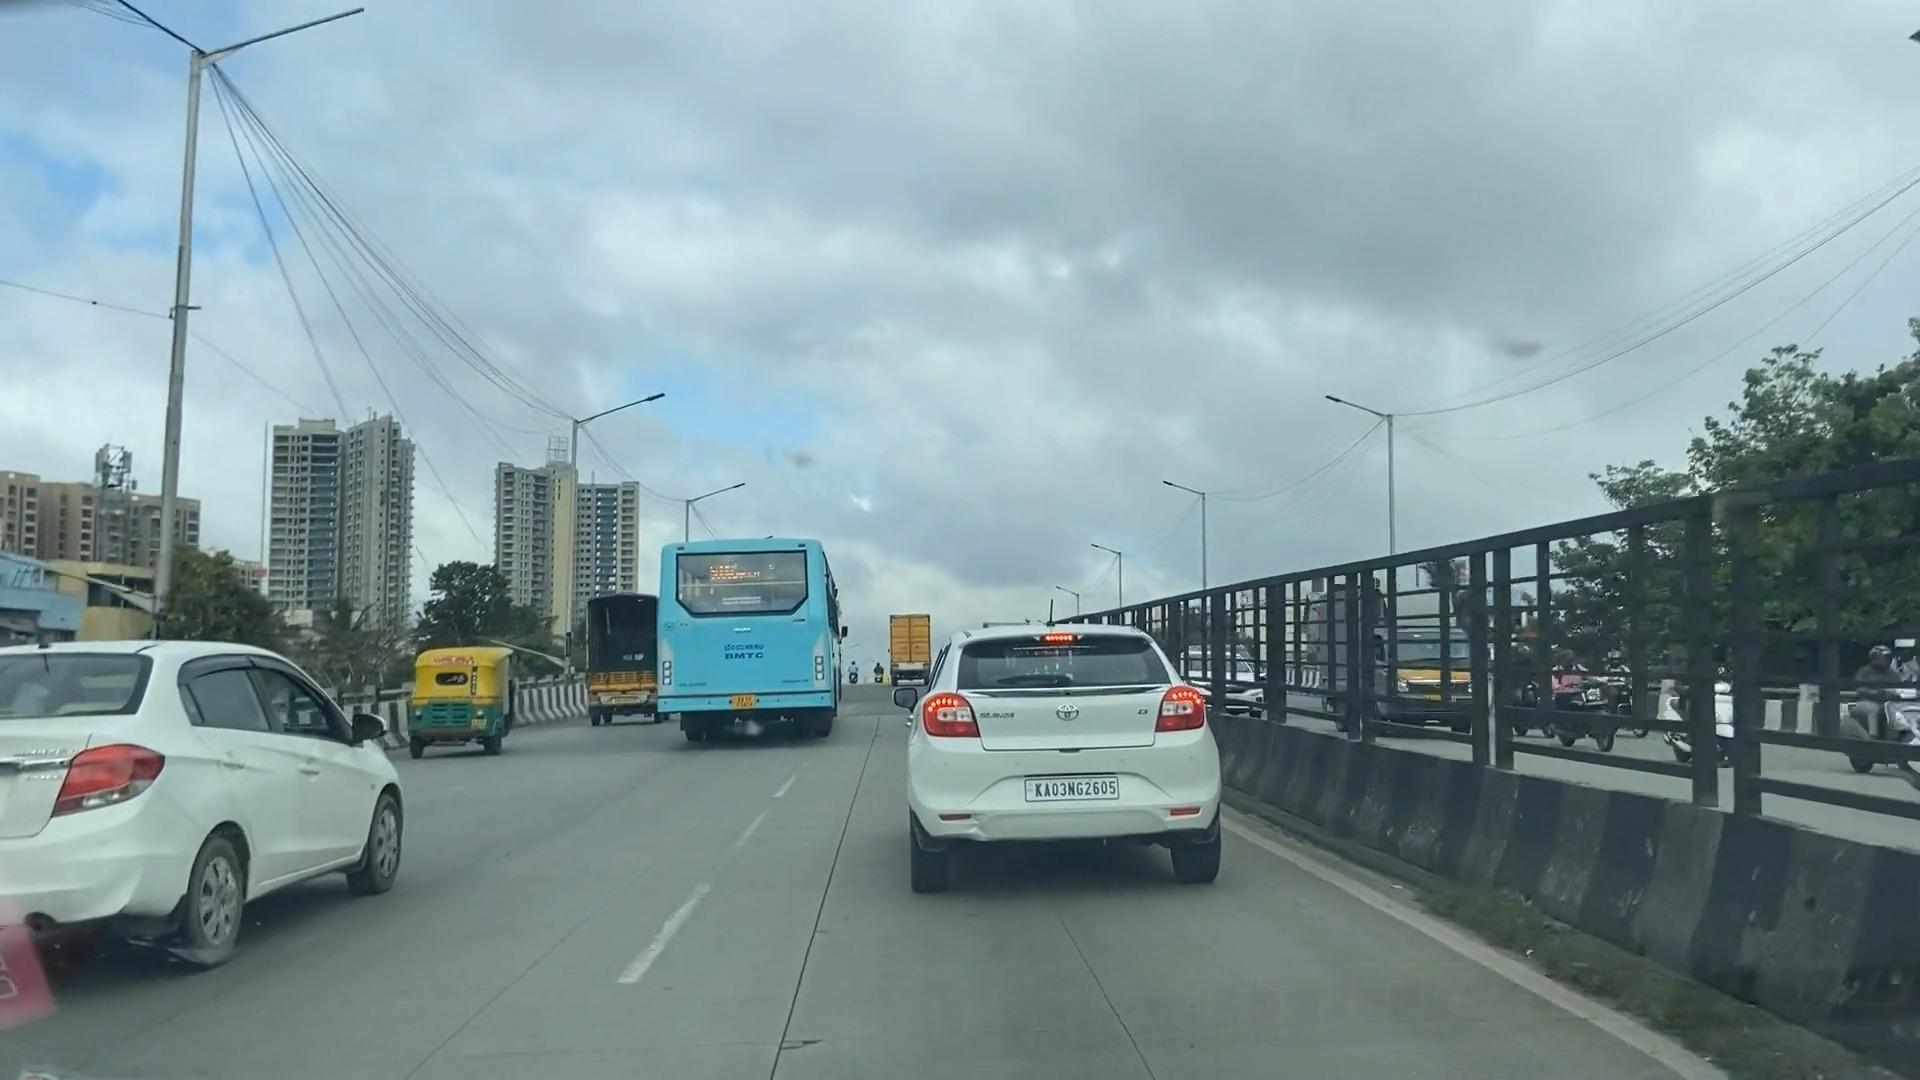HMV: (649, 496, 851, 758), (575, 587, 679, 735), (878, 593, 938, 699)
LMV: (0, 589, 484, 942), (862, 616, 1265, 911), (404, 621, 551, 765)
